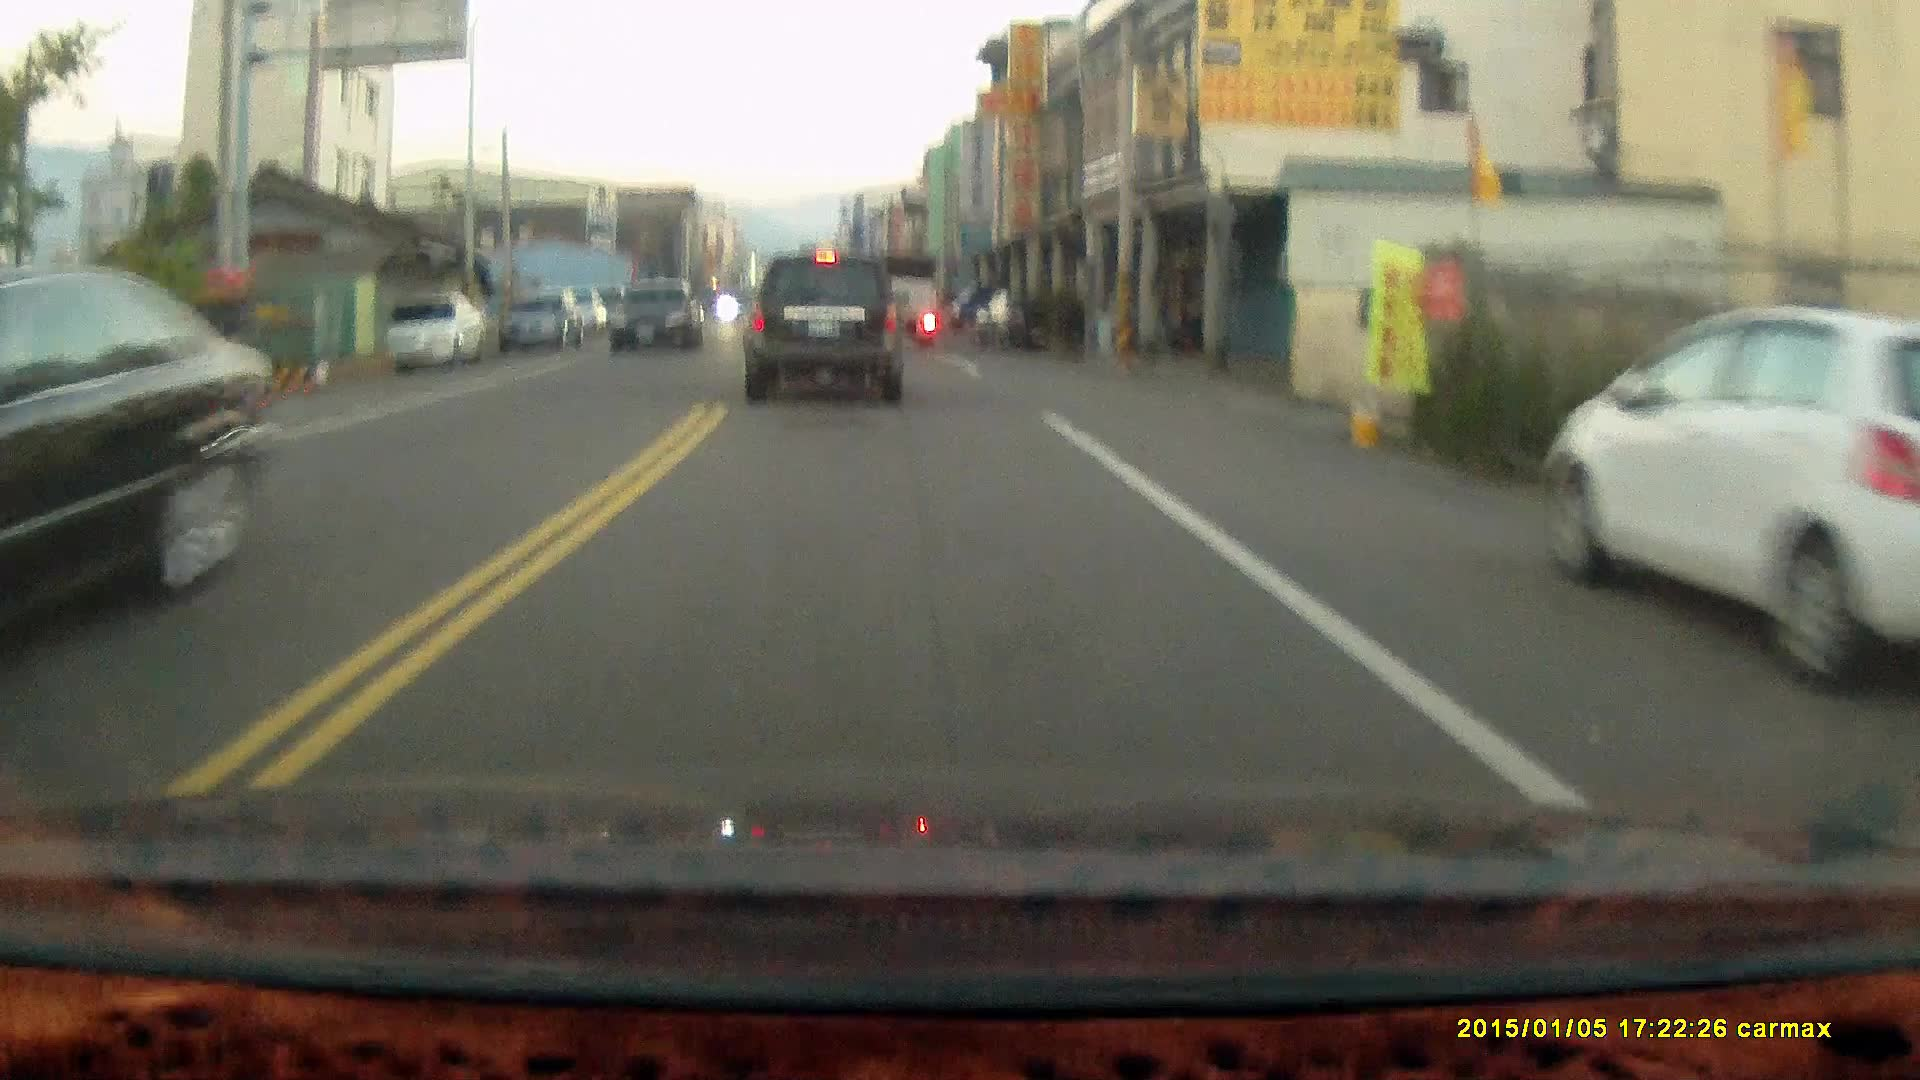vehicle: (1535, 305, 1920, 698), (1, 274, 282, 679), (745, 258, 909, 414), (380, 295, 487, 371), (862, 255, 943, 353), (613, 289, 707, 356), (498, 290, 585, 357)
